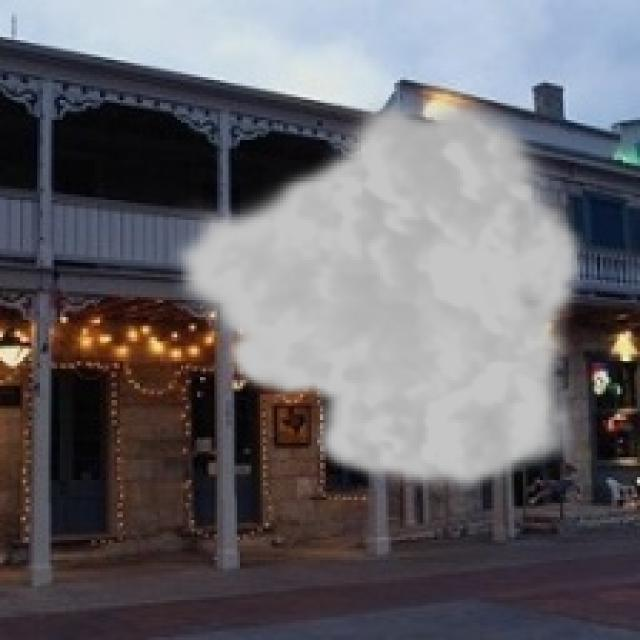Smoke: (166, 89, 588, 498)
